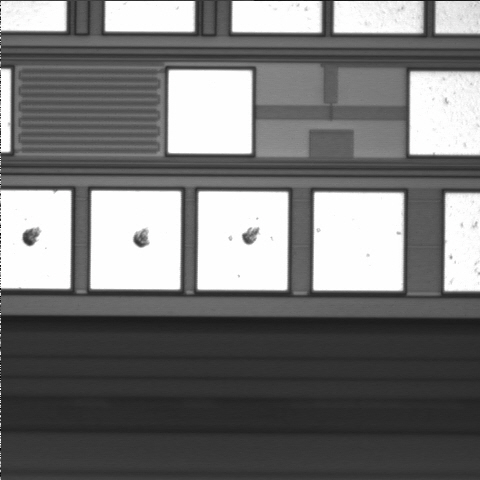pad: (313, 192, 404, 291), (91, 191, 181, 290), (198, 191, 288, 290), (168, 70, 252, 154)
